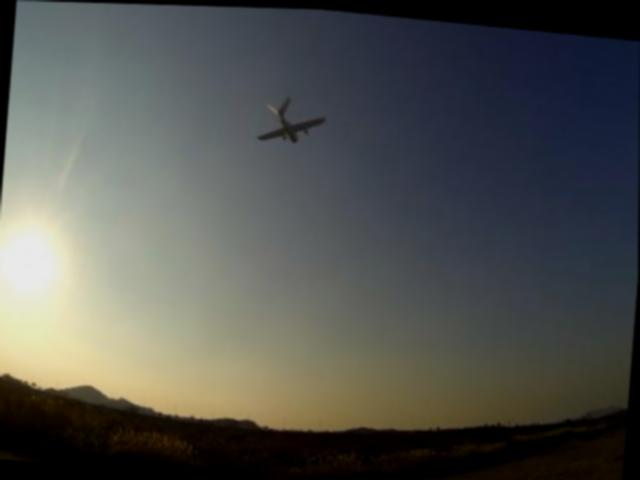uav: (248, 81, 333, 160)
